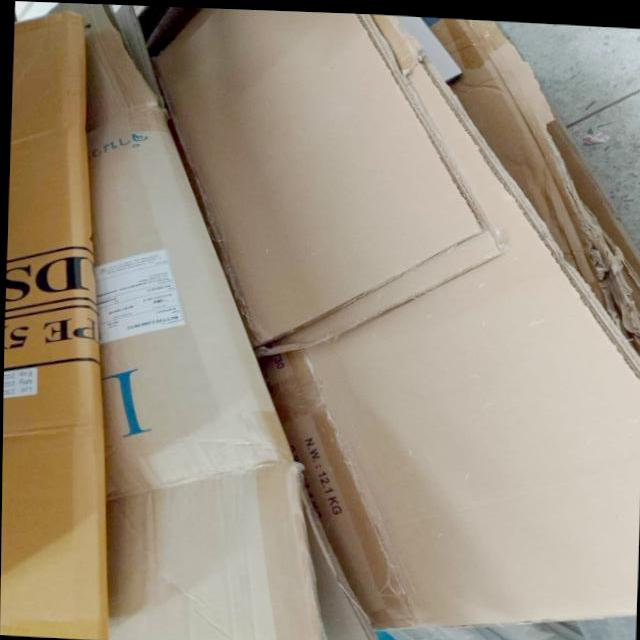General: (2, 5, 639, 640)
Sharps: (252, 229, 505, 361)
